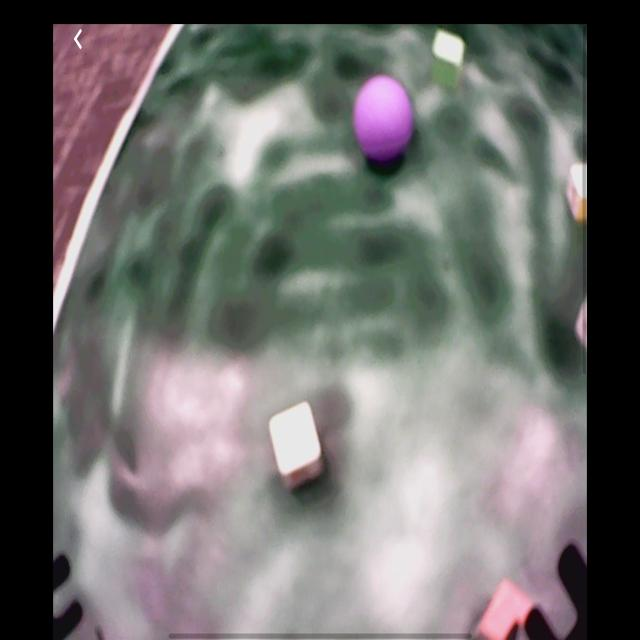ball: (356, 76, 411, 160)
